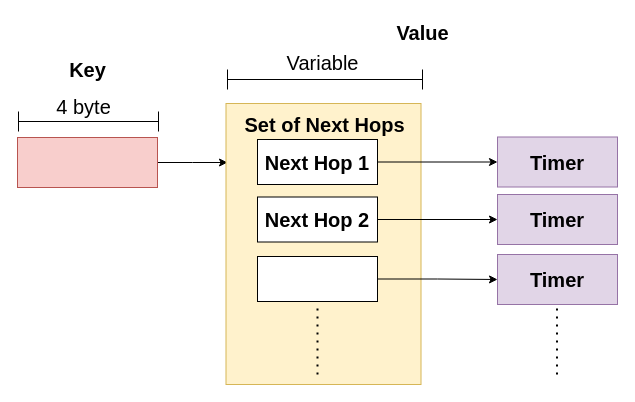
Some shapes in this 635 by 402 pixel diagram are drawn without their labels. Each missing label, with the centre of its shape:
Group IP: pixel 87 162
Next Hop 3: pixel 317 279
